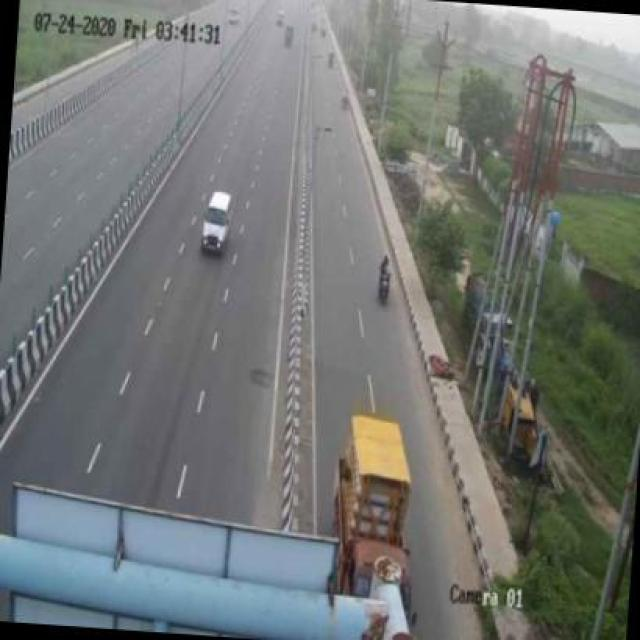car: (197, 186, 239, 260)
